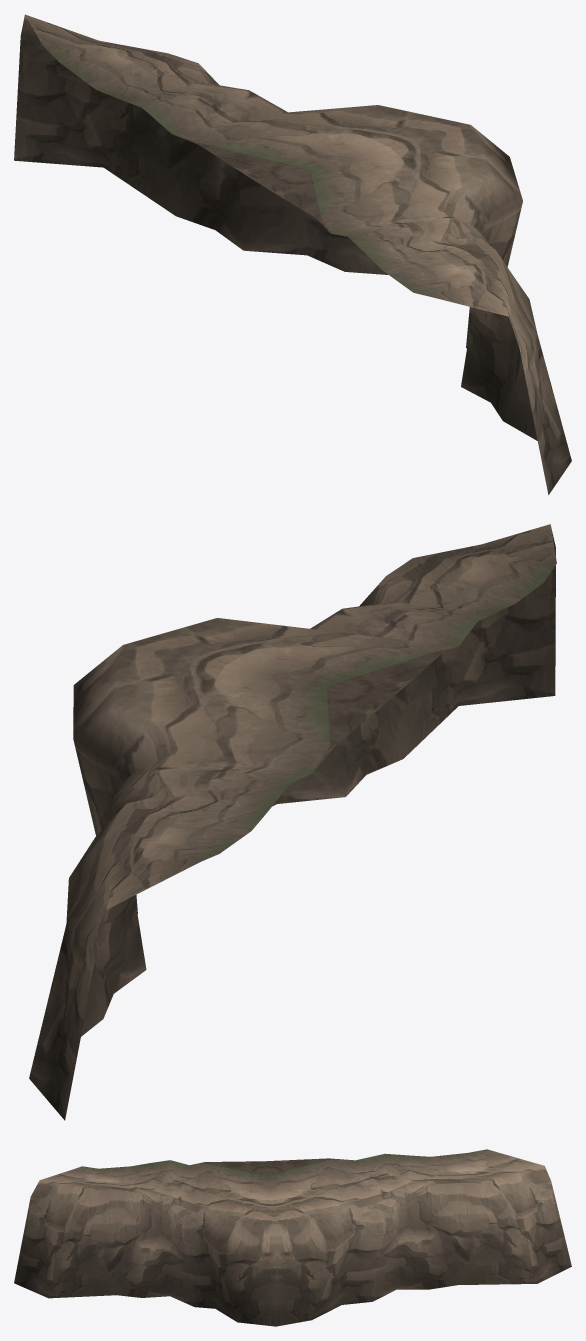
The model's file is Terrain03_Build_LostTemple_002.FBX.
3 views of the same model, one above another, from view 1: azimuth 30°, elevation 25°; view 2: azimuth 150°, elevation 25°; view 3: azimuth 270°, elevation 25° (orthographic). The views are drawn at different scales.
Parts seen in each view (by area): view 1: Terrain03_Build_LostTemple_002; view 2: Terrain03_Build_LostTemple_002; view 3: Terrain03_Build_LostTemple_002.
Part boxes in pixels (x1=…): Terrain03_Build_LostTemple_002: x1=14, y1=14, x2=571, y2=495; Terrain03_Build_LostTemple_002: x1=29, y1=524, x2=556, y2=1120; Terrain03_Build_LostTemple_002: x1=14, y1=1149, x2=571, y2=1326.
Bounding box in the file's own units: 4493 × 2669 × 12871.
Materials: 1 (1 with a texture image).
